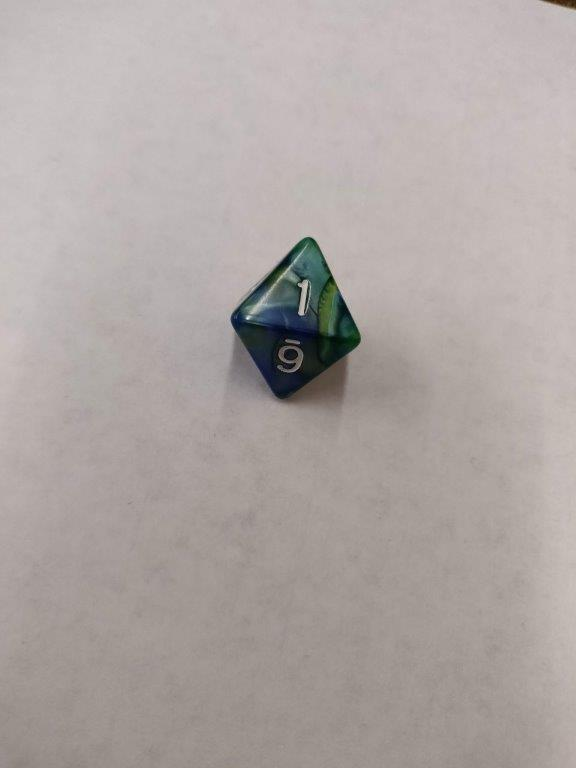d8-1: (231, 238, 361, 401)
